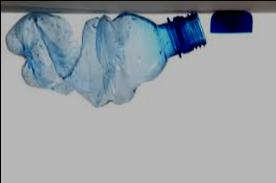Plastic: (5, 5, 204, 112), (208, 8, 254, 38)
